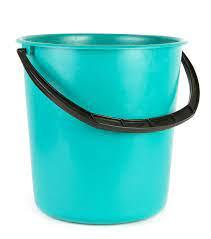HDPE: (0, 9, 211, 239)
